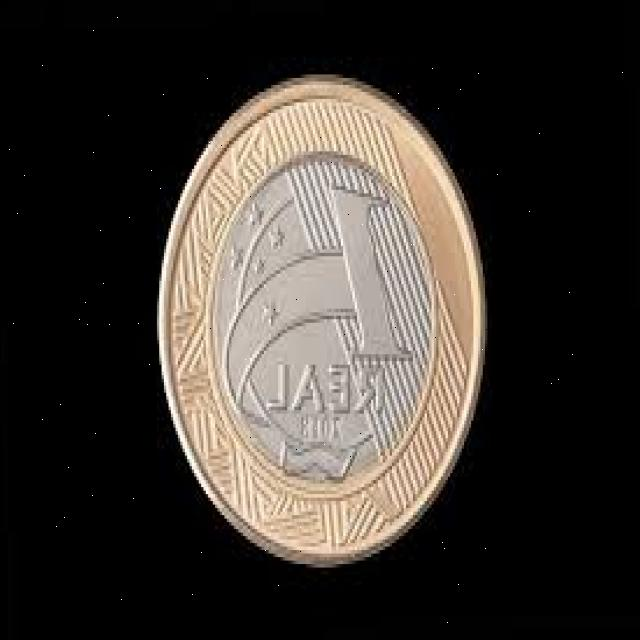1 real: (156, 76, 494, 553)
